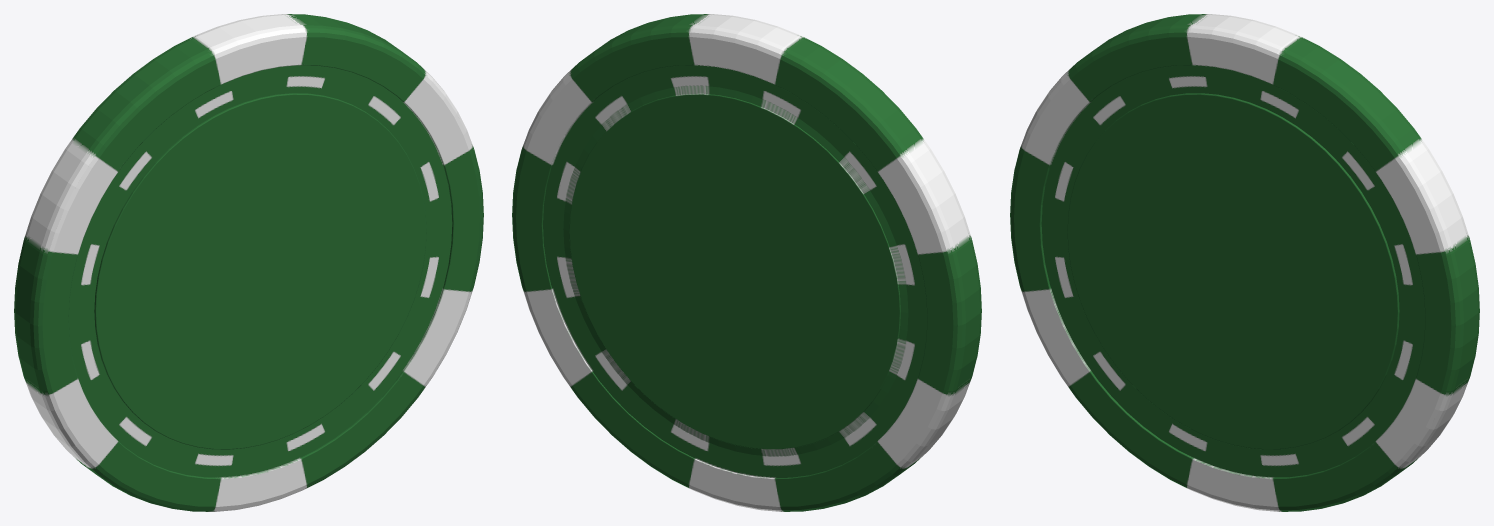
The model's file is chips.obj.
3 renders of one model, left to right at view 1: azimuth 30°, elevation 25°; view 2: azimuth 150°, elevation 25°; view 3: azimuth 330°, elevation 25°, orthographic.
Visible parts, largest first — view 1: chips_model; view 2: chips_model; view 3: chips_model.
Part boxes in pixels (x1,y1,x2,y2): chips_model: (14,14,483,511); chips_model: (512,14,981,511); chips_model: (1010,14,1479,511).
Size of the model in its own units: 200 by 200 by 18.82.
Materials: 1 (1 with a texture image).
